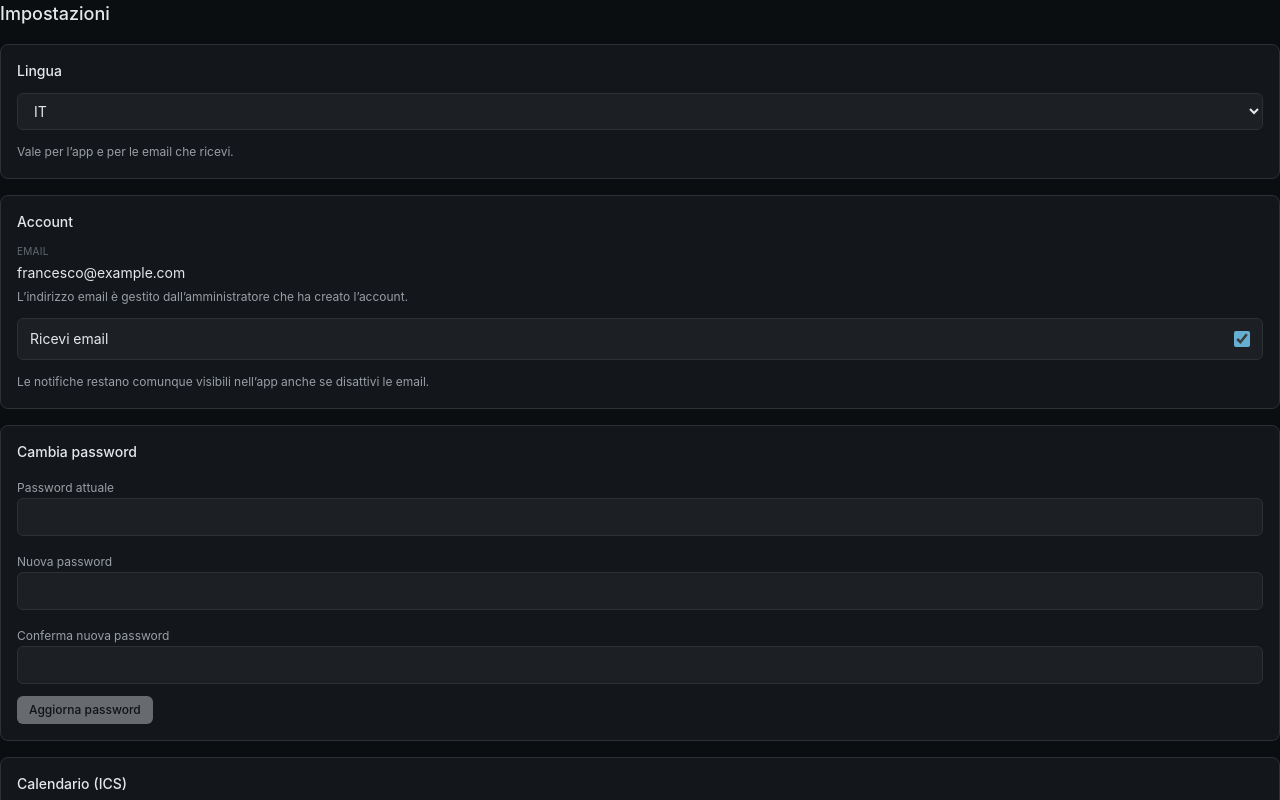
Test: a password change posts both fields and surfaces the server error code
Type "wrong" into the password field labelled "Password attuale" at (640, 516), box [17,498,1263,536]
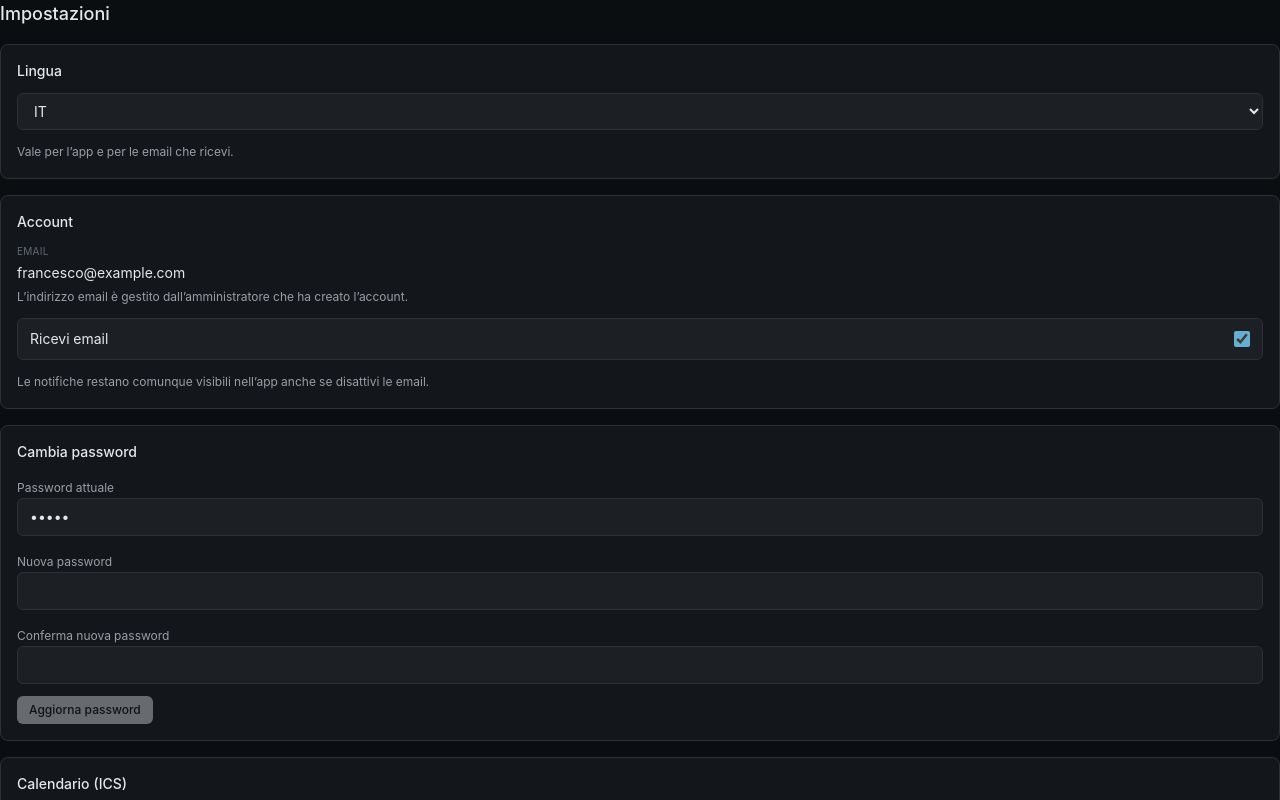
Type "new-secret" into the password field labelled "Nuova password" at (640, 590), box [17,572,1263,610]
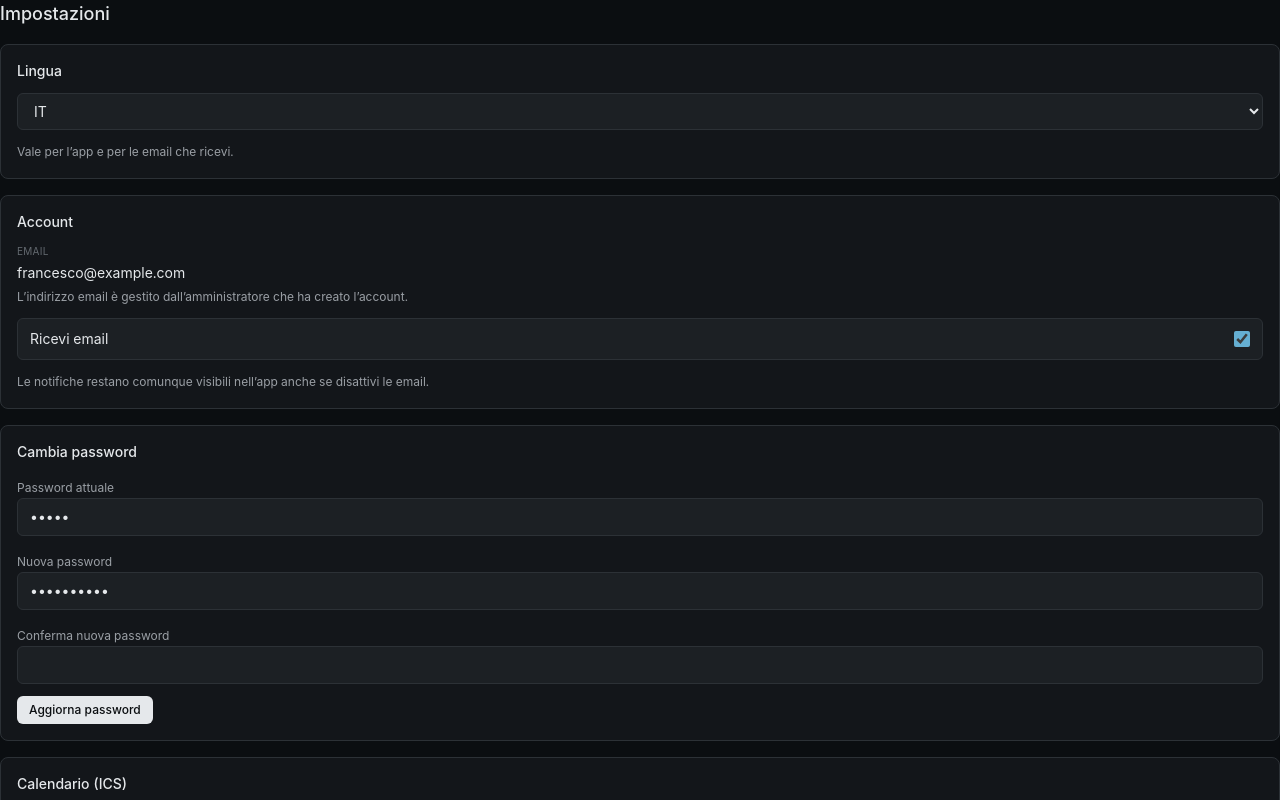
Type "new-secret" into the password field labelled "Conferma nuova password" at (640, 664), box [17,646,1263,684]
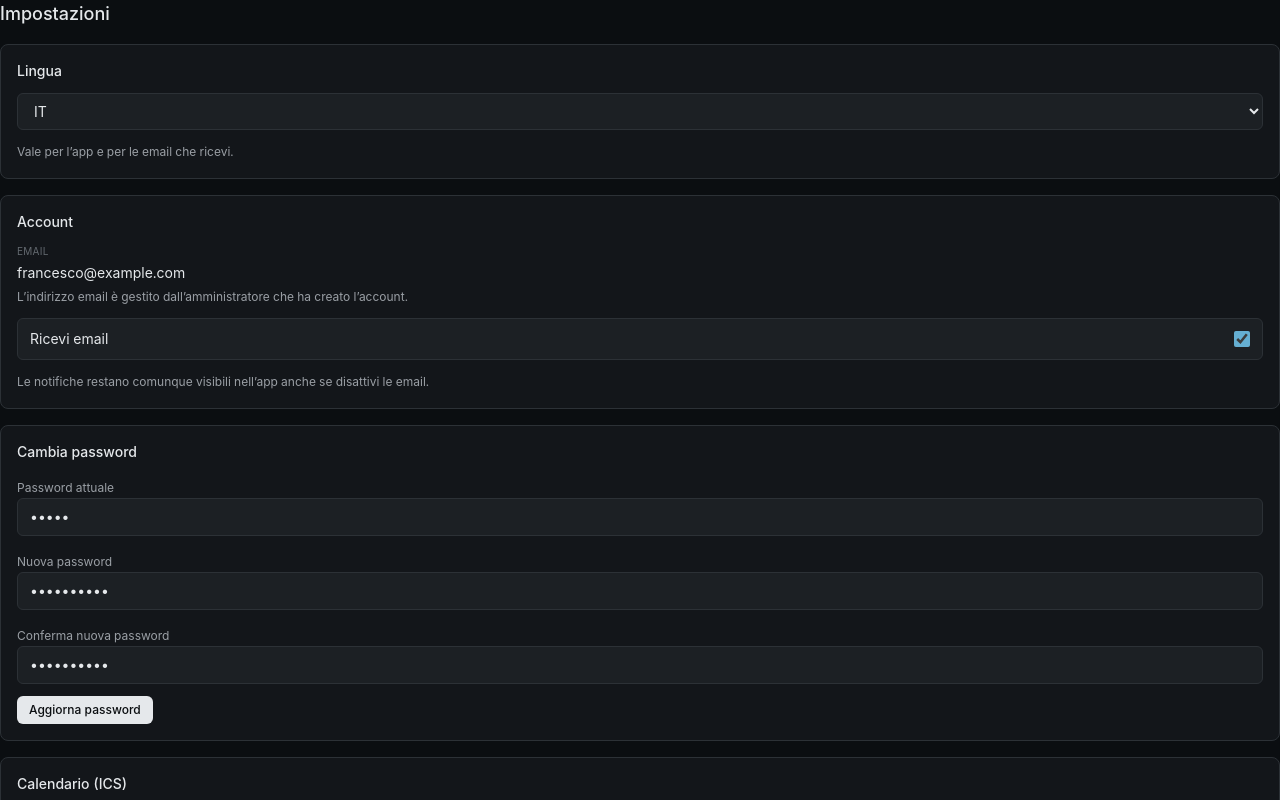
Click the button "Aggiorna password" at (85, 710), box [17,696,153,724]
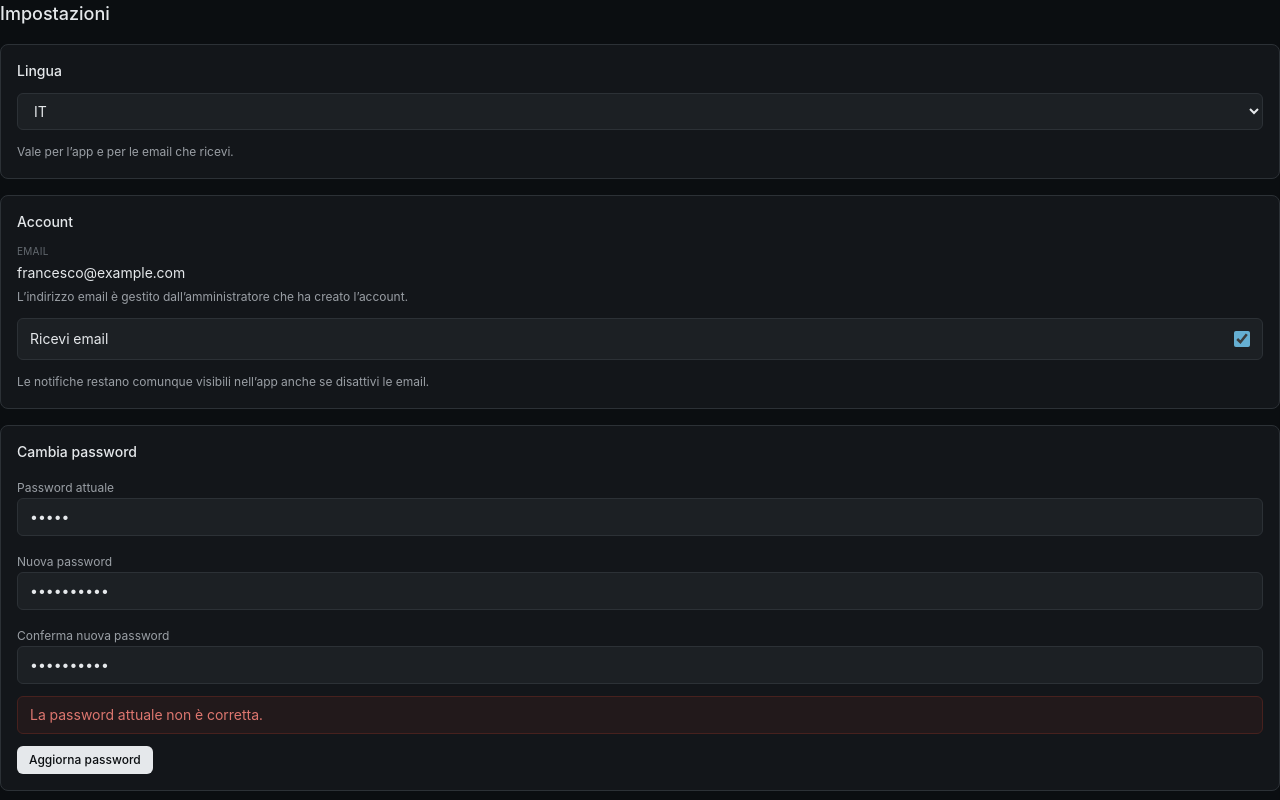
Check: the text "La password attuale non è corretta." is shown, box [30,704,263,724]
